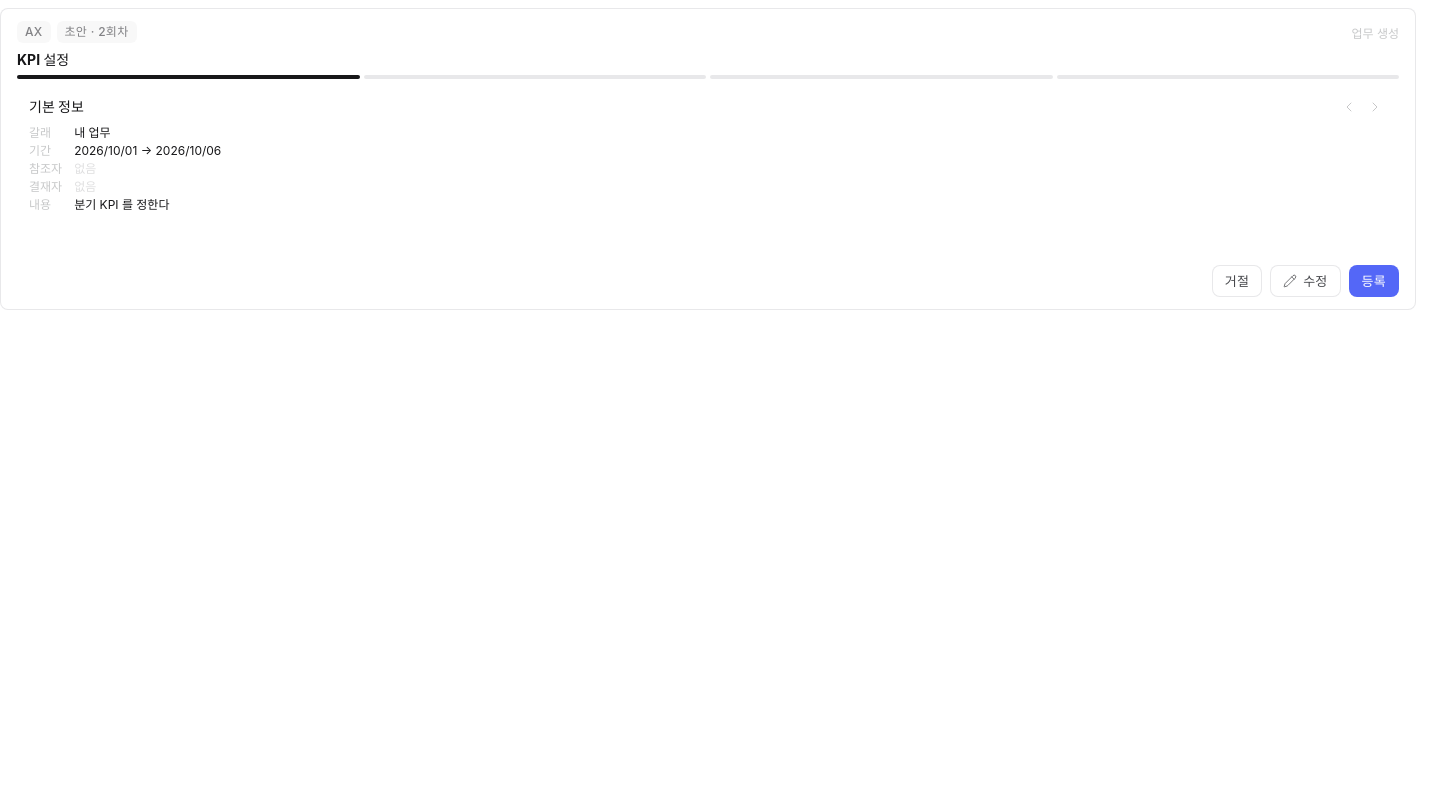
수정 창의 주 단추 = 「저장」 › 문구가 「저장」/「저장 중…」이고 「등록」은 창에 없다 — 닫기는 그대로
The image size is (1440, 810).
Click the button "수정": (1305, 281) x1=1270 y1=265 x2=1341 y2=297
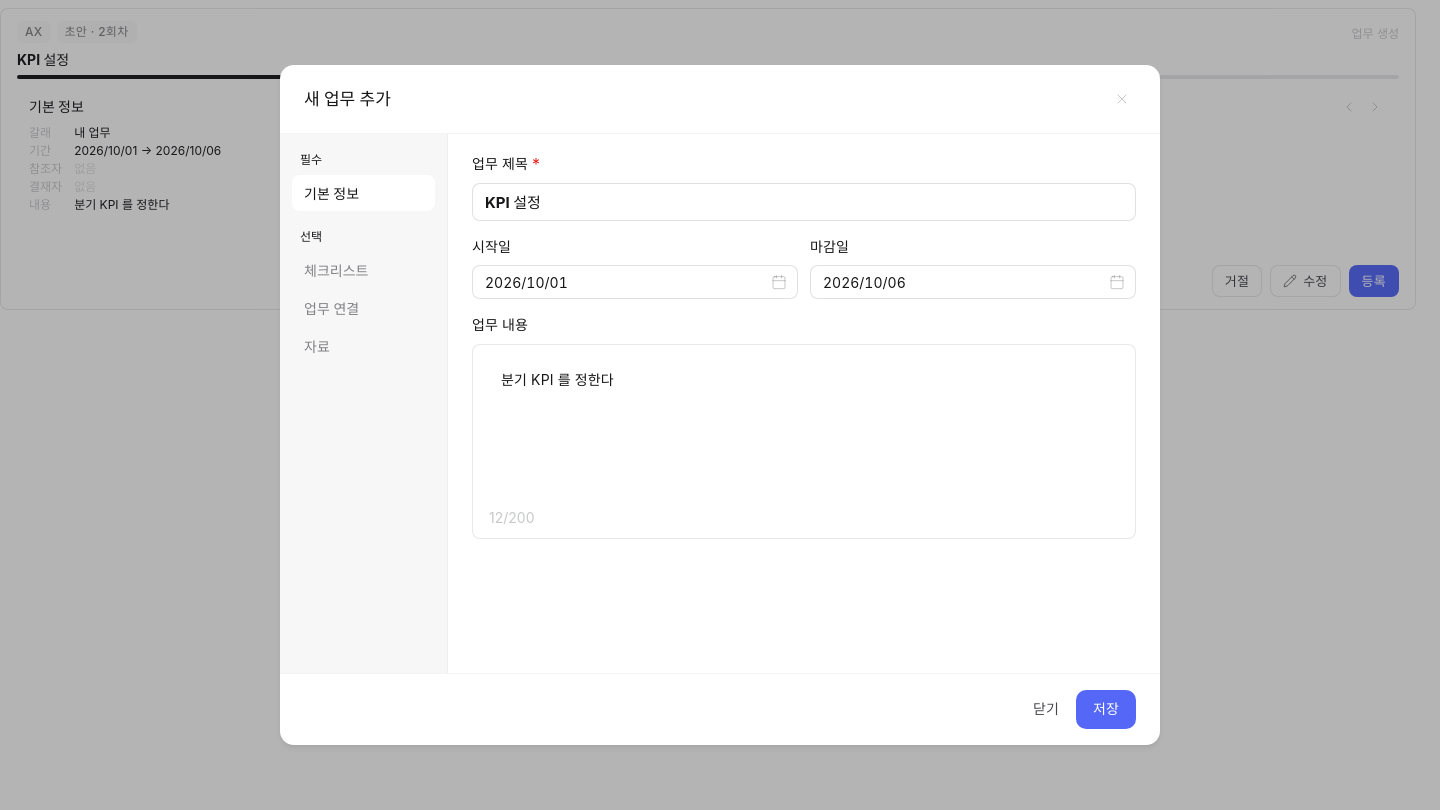
Expected: the button named "닫기" is shown, x1=1108 y1=85 x2=1136 y2=113
Click the button "저장": (1106, 710) x1=1076 y1=690 x2=1136 y2=729
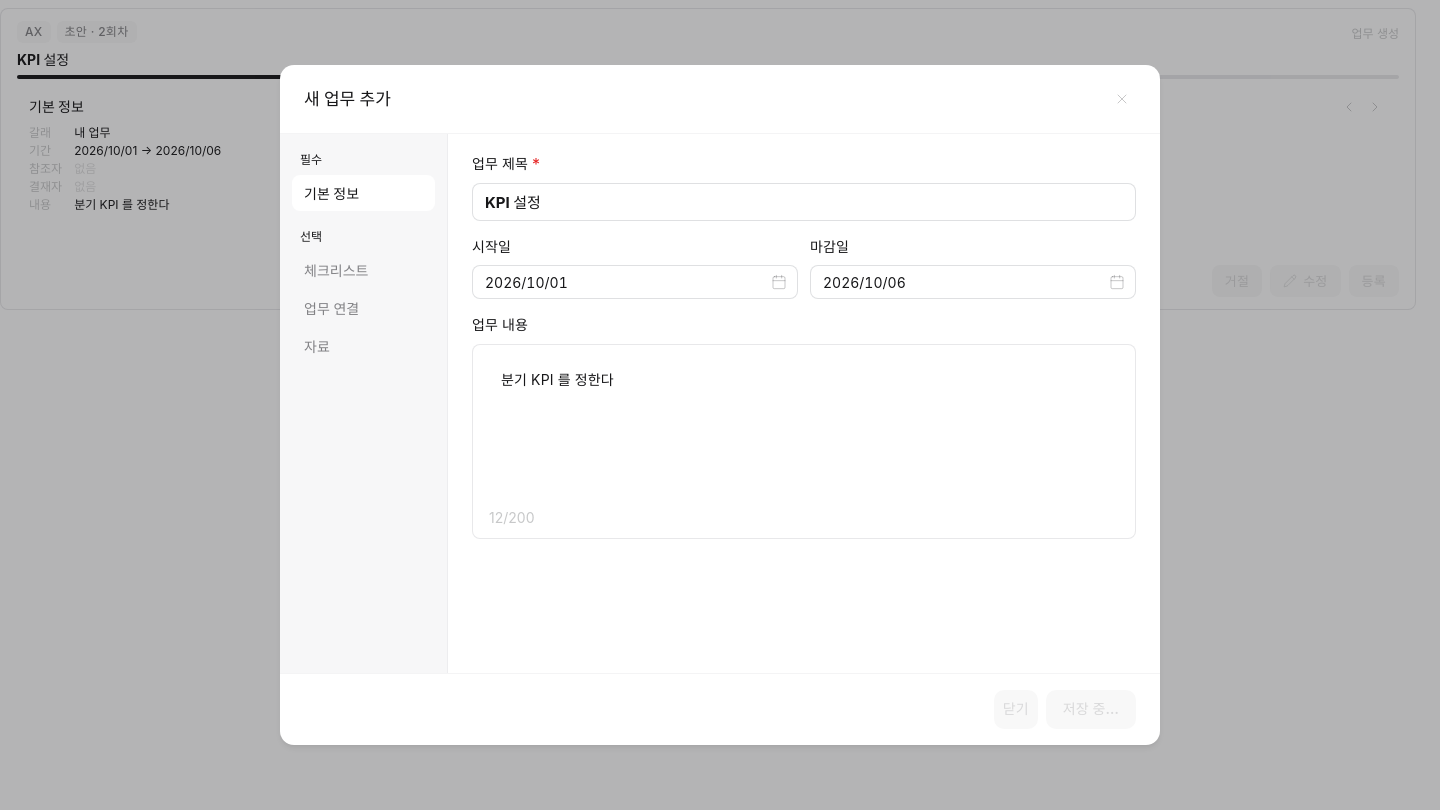
Expected: the button "저장 중…" is shown, x1=1046 y1=690 x2=1136 y2=729
